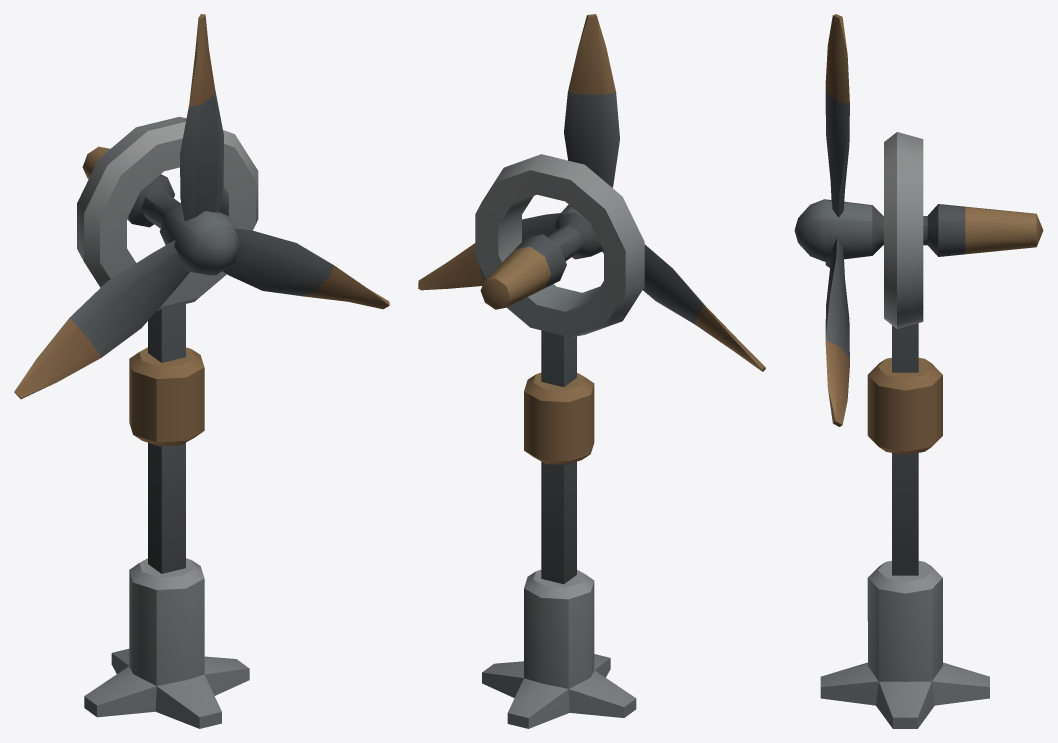
File: turbine-fYd5OAEq.glb
3 views of the same model, side by side, from view 1: azimuth 30°, elevation 25°; view 2: azimuth 150°, elevation 25°; view 3: azimuth 270°, elevation 25° (orthographic). The views are drawn at different scales.
Parts seen in each view (by area): view 1: windturbine_tall_fan, Cube.15108; view 2: windturbine_tall_fan, Cube.15108; view 3: Cube.15108, windturbine_tall_fan.
Part boxes in pixels (left/top/right/bottom): windturbine_tall_fan: left=14, top=14, right=389, bottom=399; Cube.15108: left=84, top=303, right=249, bottom=728; windturbine_tall_fan: left=418, top=14, right=765, bottom=371; Cube.15108: left=482, top=330, right=636, bottom=728; Cube.15108: left=820, top=323, right=989, bottom=728; windturbine_tall_fan: left=794, top=14, right=1043, bottom=426.
Bounding box in the file's own units: 1.67 × 3 × 0.9998.
Materials: 1 (1 with a texture image).
